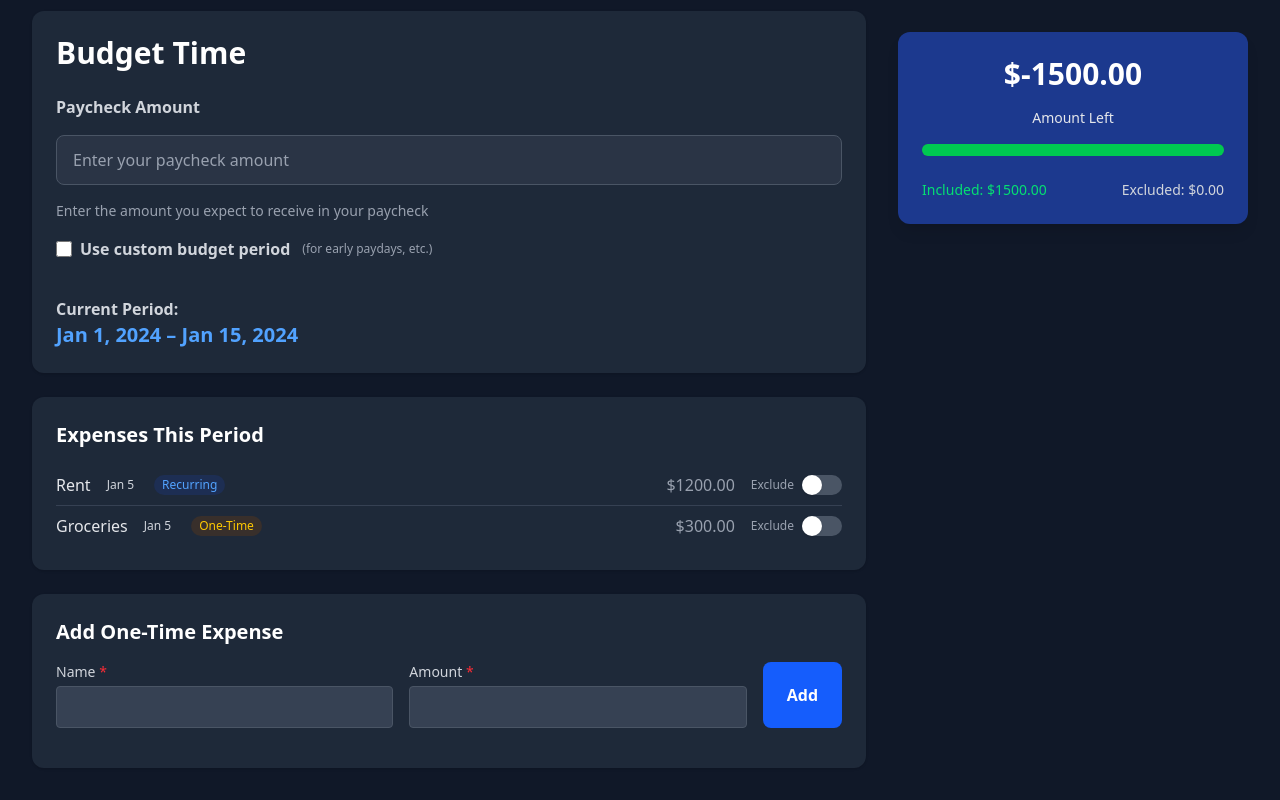
Test: BudgetTime Page › allows removing one-time expenses
(page scrolled)
In the field labelled "Name *": (225, 707) [56, 686, 393, 728], type "Movie Tickets"
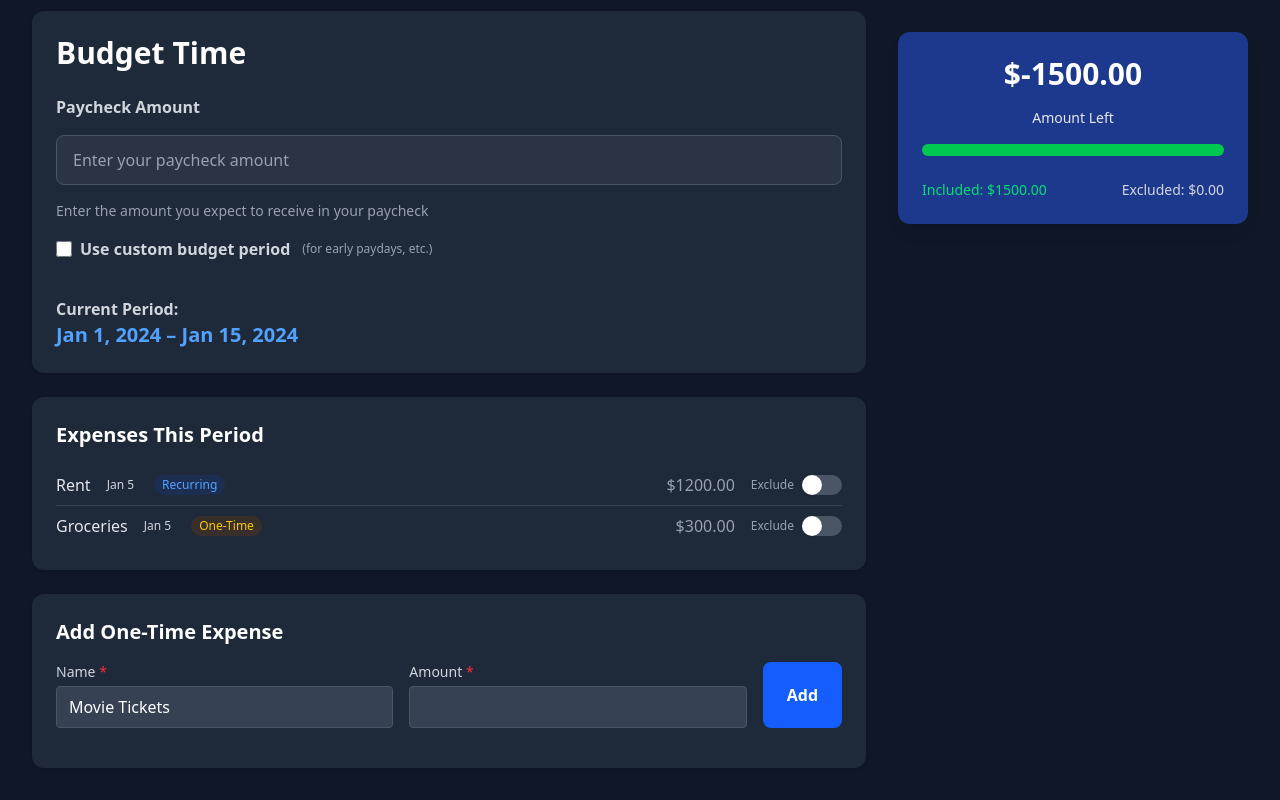
In the field labelled "Amount *": (578, 707) [409, 686, 747, 728], type "50"
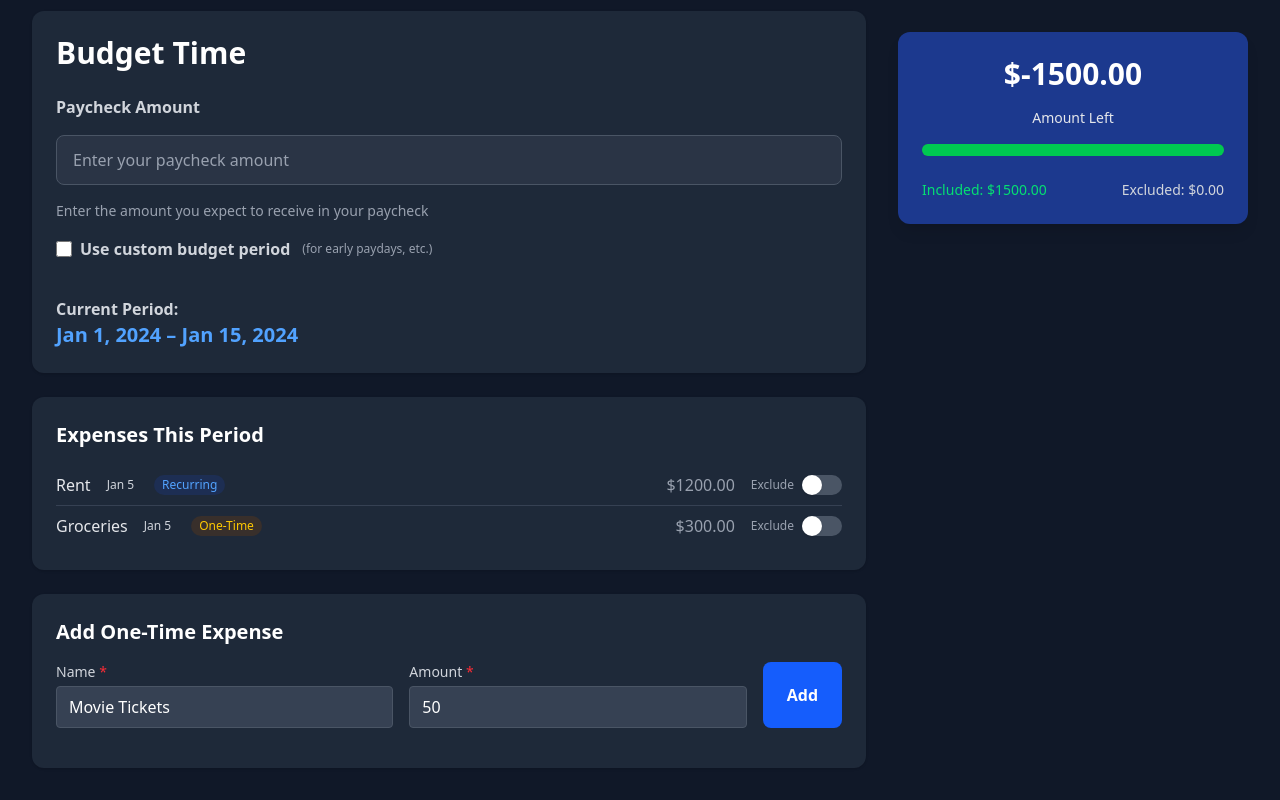
Click the button "Add": (802, 695) [763, 662, 842, 728]
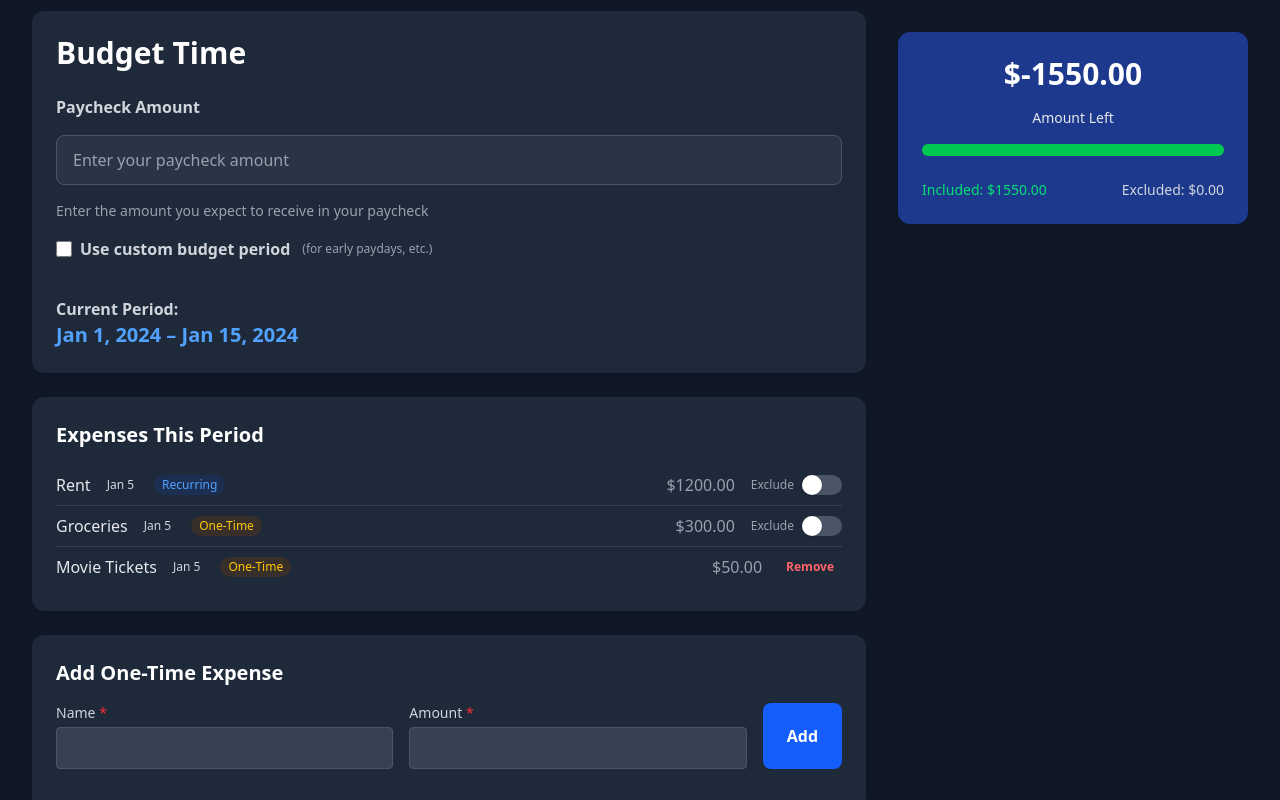
Expected: the text "Movie Tickets" is shown, [56, 556, 157, 578]
Click the button "Remove": (810, 567) [778, 555, 842, 579]
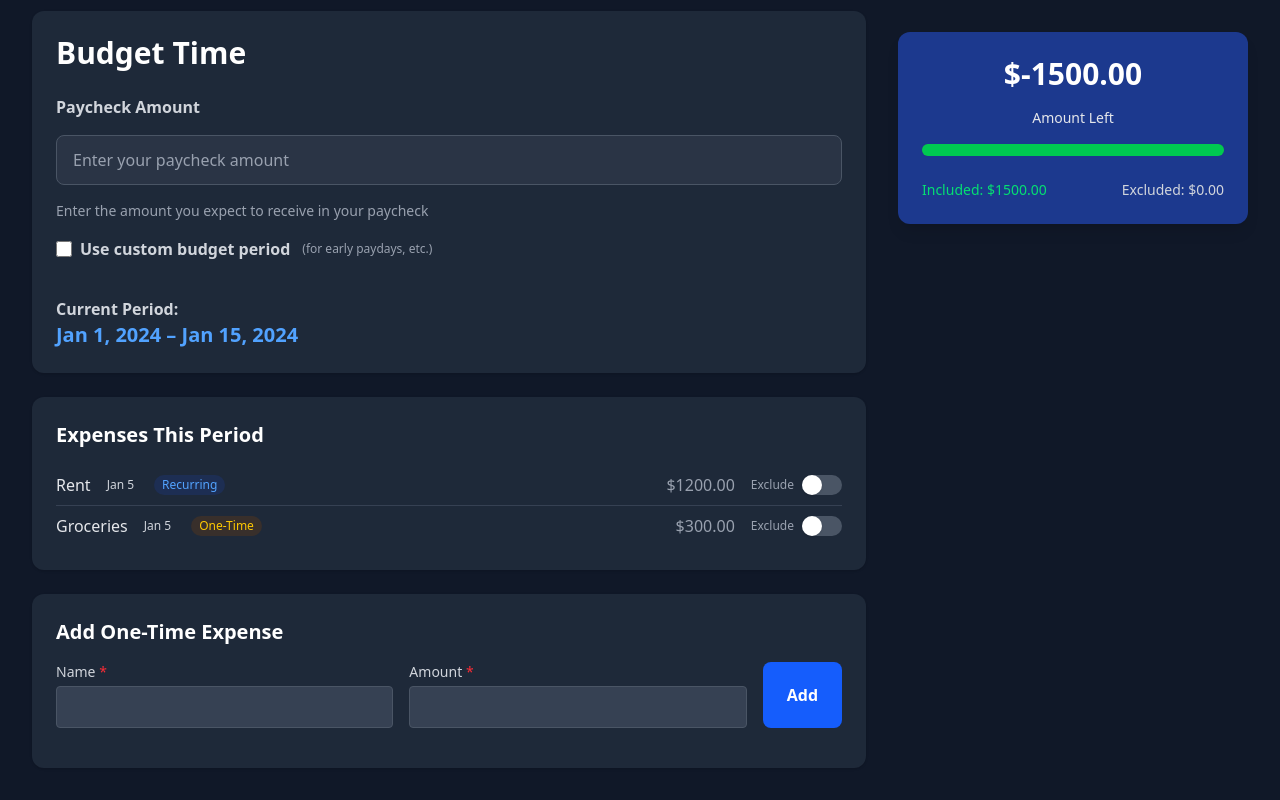
Expected: the text "Movie Tickets" is gone
